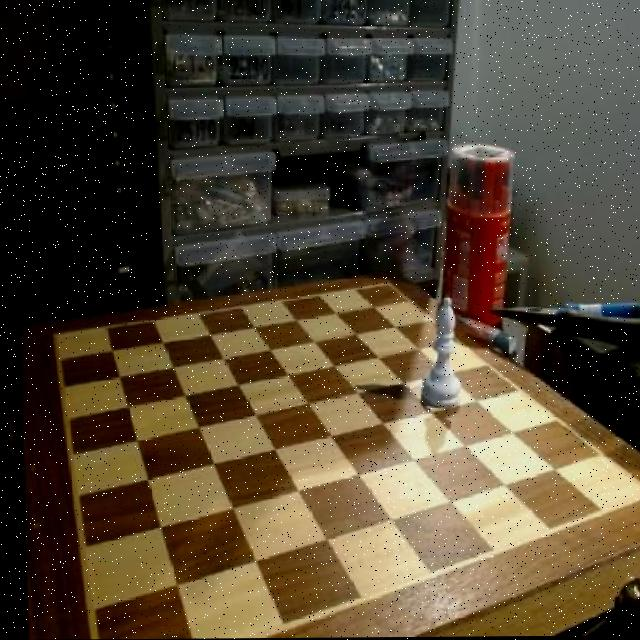black-rook: (419, 286, 466, 418)
